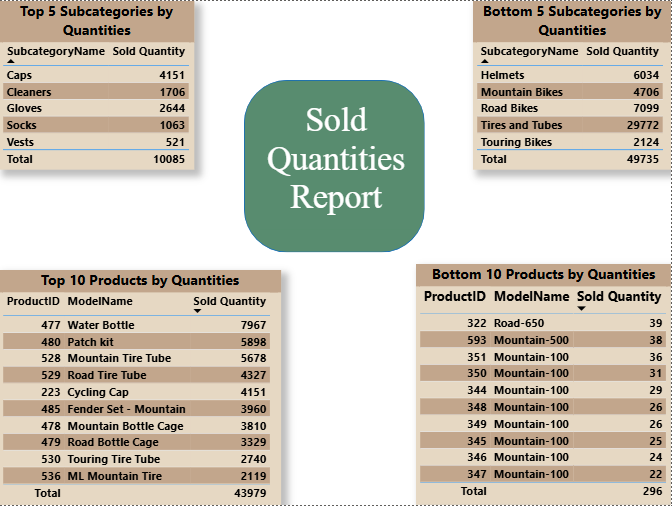

This screenshot's page, from the dashboard's own definition file:
{"tool":"powerbi","page":{"name":"Sales by Products(Quantity)","canvas":[960,720],"ordinal":5},"visuals":[{"type":"tableEx","title":"Bottom 5 Subcategories by Quantities","fields":{"Values":["SALES.SubcategoryName","Sum(SALES.OrderQuantity)"]},"box":[677.1,0,282.9,241.4],"z":0},{"type":"shape","box":[350,112.9,258.1,246.3],"z":0,"group":"g1"},{"type":"tableEx","title":"Top 5 Subcategories by Quantities","fields":{"Values":["SALES.SubcategoryName","Sum(SALES.OrderQuantity)"]},"box":[0,0,278.6,241.4],"z":1000},{"type":"textbox","box":[372.4,136.6,217.1,188.6],"z":1000,"group":"g1"},{"type":"tableEx","title":"Top 10 Products by Quantities","fields":{"Values":["SALES.ProductID","SALES.ModelName","Sum(SALES.OrderQuantity)"]},"box":[0,384.3,402.9,335.7],"z":2000},{"type":"tableEx","title":"Bottom 10 Products by Quantities","fields":{"Values":["SALES.ProductID","SALES.ModelName","Sum(SALES.OrderQuantity)"]},"box":[595.7,375.7,364.3,344.3],"z":3000},{"type":"group","id":"g1","title":"Group 1","box":[350,112.9,258.6,245.7],"z":4000}]}

Visuals, with their boxes in screenshot pixels (x1, y1, x2, y2), scaled from the page's 960x720 canvas onto the 672x506 screenshot:
"Bottom 5 Subcategories by Quantities" tableEx: {"x1": 474, "y1": 0, "x2": 671, "y2": 170}
shape: {"x1": 245, "y1": 79, "x2": 426, "y2": 252}
"Top 5 Subcategories by Quantities" tableEx: {"x1": 0, "y1": 0, "x2": 195, "y2": 170}
textbox: {"x1": 261, "y1": 96, "x2": 413, "y2": 229}
"Top 10 Products by Quantities" tableEx: {"x1": 0, "y1": 270, "x2": 282, "y2": 505}
"Bottom 10 Products by Quantities" tableEx: {"x1": 417, "y1": 264, "x2": 671, "y2": 505}
"Group 1" group: {"x1": 245, "y1": 79, "x2": 426, "y2": 252}
